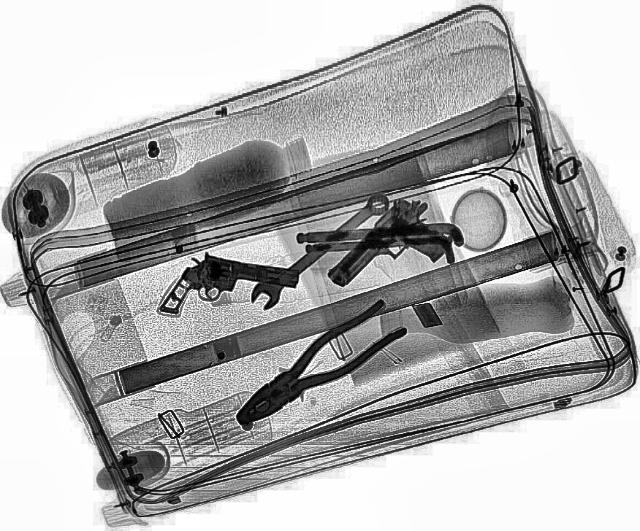Gun: (312, 189, 471, 313), (156, 246, 302, 334)
Pliers: (217, 298, 415, 438)
Wrench: (240, 186, 396, 314)
